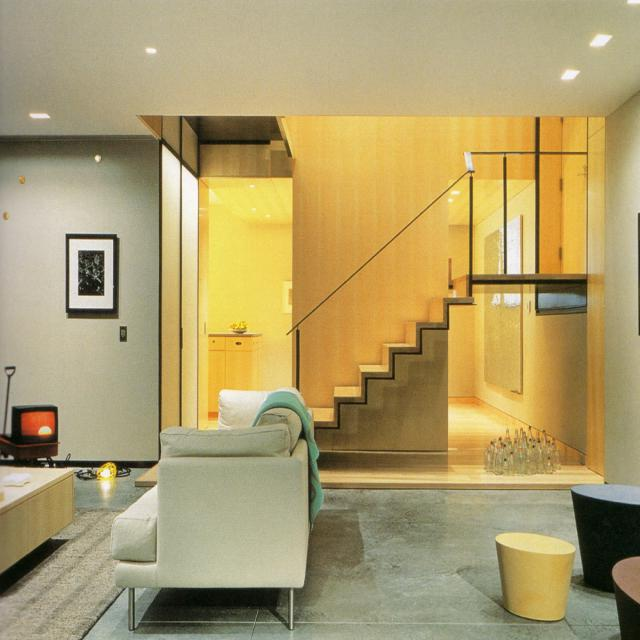2025: (318, 403, 604, 489), (133, 462, 159, 486)
art: (483, 216, 523, 393), (282, 279, 313, 314)
blanket: (250, 391, 325, 524)
bottles occluded: (484, 425, 561, 476)
bowl of fruit: (230, 319, 249, 334)
cage: (94, 460, 117, 481)
ceiling beam: (1, 0, 639, 140), (182, 117, 293, 225), (448, 154, 535, 226)
couch -x: (116, 393, 310, 632)
counter bottom: (208, 333, 263, 417)
cushion occluded: (158, 427, 289, 458), (110, 483, 158, 562), (255, 407, 301, 456)
door bars: (539, 119, 588, 274)
drawer handle: (226, 337, 251, 350)
floor -X: (84, 490, 618, 640)
lamp crop: (75, 460, 130, 483)
light fixture: (587, 31, 613, 48), (561, 67, 580, 80), (28, 110, 52, 119), (94, 153, 102, 164), (145, 47, 157, 53)
light switch: (117, 321, 129, 342)
lightbulb: (99, 467, 109, 476)
picture crop: (67, 238, 121, 314)
railing: (284, 148, 587, 447)
rug -partially obscured-: (0, 506, 172, 639)
seat crop: (570, 481, 638, 596), (495, 530, 574, 621), (611, 553, 639, 637)
stair case: (310, 272, 587, 454)
table -X: (1, 464, 74, 575)
television cabinet: (13, 410, 62, 439)
wagon: (0, 365, 58, 460)
wall clock: (208, 119, 536, 402), (449, 93, 640, 487), (1, 141, 159, 469), (141, 117, 209, 430)
